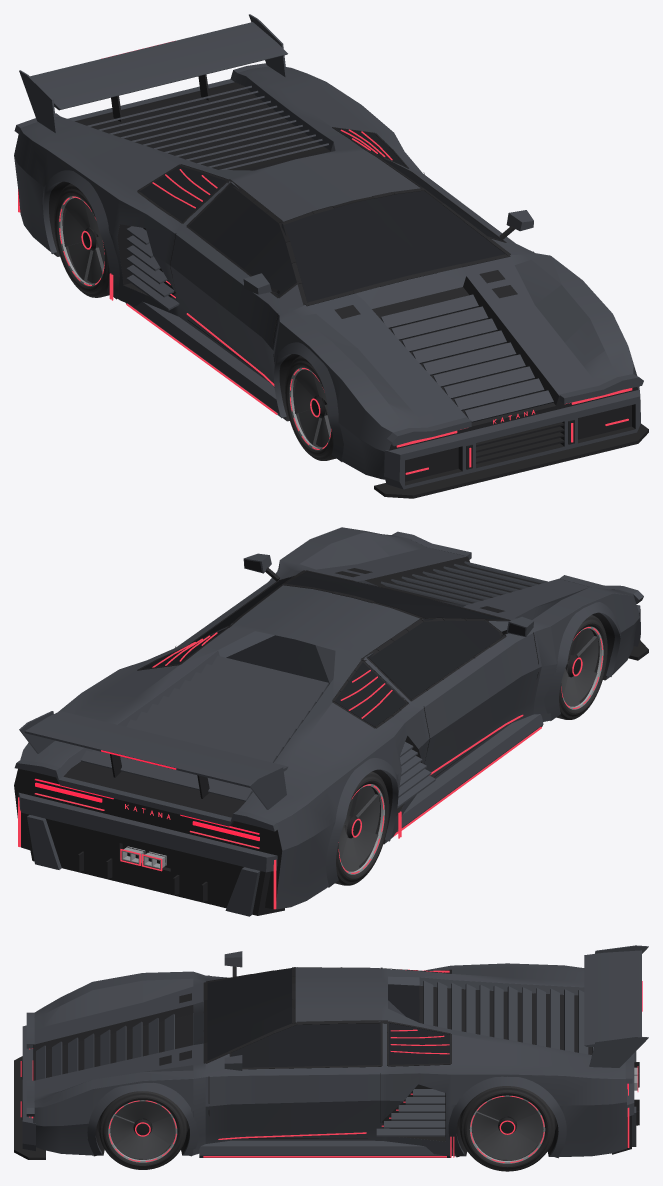
File: katana_rig.glb
3 renders of one model, top to bottom at view 1: azimuth 30°, elevation 25°; view 2: azimuth 150°, elevation 25°; view 3: azimuth 270°, elevation 25°, orthographic. The views are drawn at different scales.
Visible parts, largest first — view 1: Body_mesh, Wheel_RR_mesh, Wheel_FR_mesh; view 2: Body_mesh, Wheel_RR_mesh, Wheel_FR_mesh; view 3: Body_mesh, Wheel_RL_mesh, Wheel_FL_mesh.
Part boxes in pixels (bbox=[...]): Body_mesh: bbox=[14, 14, 648, 498]; Wheel_RR_mesh: bbox=[54, 183, 109, 297]; Wheel_FR_mesh: bbox=[285, 356, 336, 460]; Body_mesh: bbox=[14, 527, 648, 916]; Wheel_RR_mesh: bbox=[335, 771, 389, 885]; Wheel_FR_mesh: bbox=[556, 615, 607, 719]; Body_mesh: bbox=[14, 945, 648, 1159]; Wheel_RL_mesh: bbox=[459, 1086, 555, 1171]; Wheel_FL_mesh: bbox=[99, 1091, 186, 1169].
Bounding box in the file's own units: 2.24 × 1.11 × 5.05.
